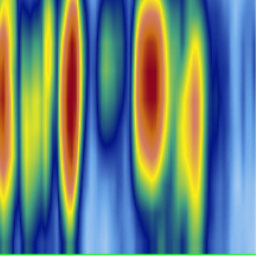defect: (175, 2, 224, 212), (20, 1, 52, 254), (132, 1, 171, 208), (56, 1, 86, 254), (95, 2, 125, 175), (1, 1, 19, 255)
